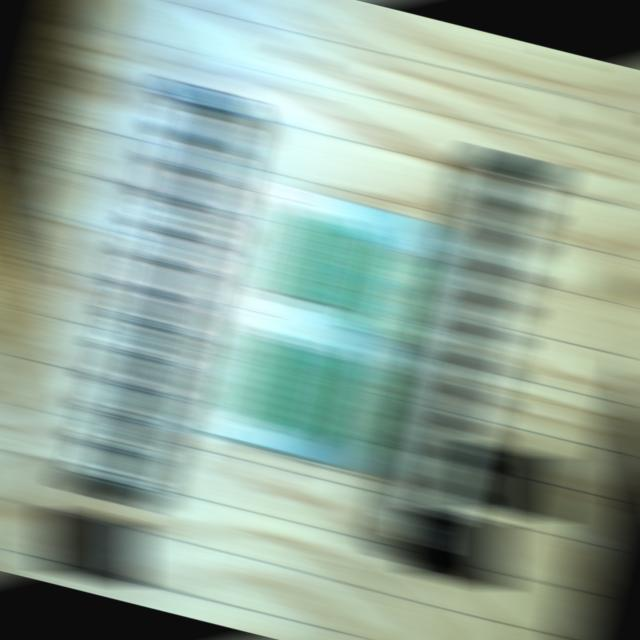Flathead_Block: (381, 143, 558, 579)
Phillips_Block: (65, 76, 247, 513)
Terminal_1: (329, 355, 389, 456), (358, 243, 417, 345)
Terminal_2: (278, 343, 336, 439), (285, 210, 343, 306), (309, 217, 367, 313), (227, 329, 285, 424), (253, 337, 310, 432)
